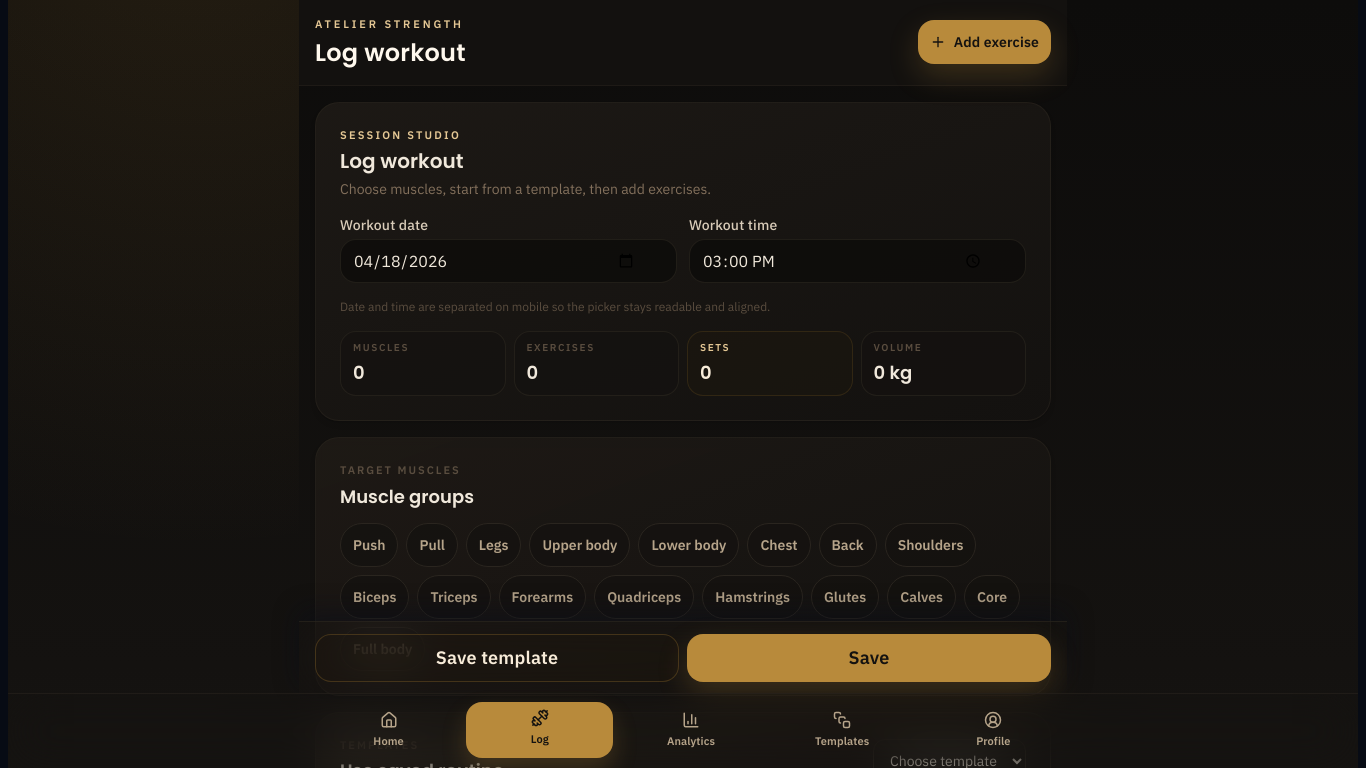
Test: LogWorkoutPage › creates workout successfully after adding an exercise
Click the button "Add exercise" at (984, 42), box [918,20,1051,64]
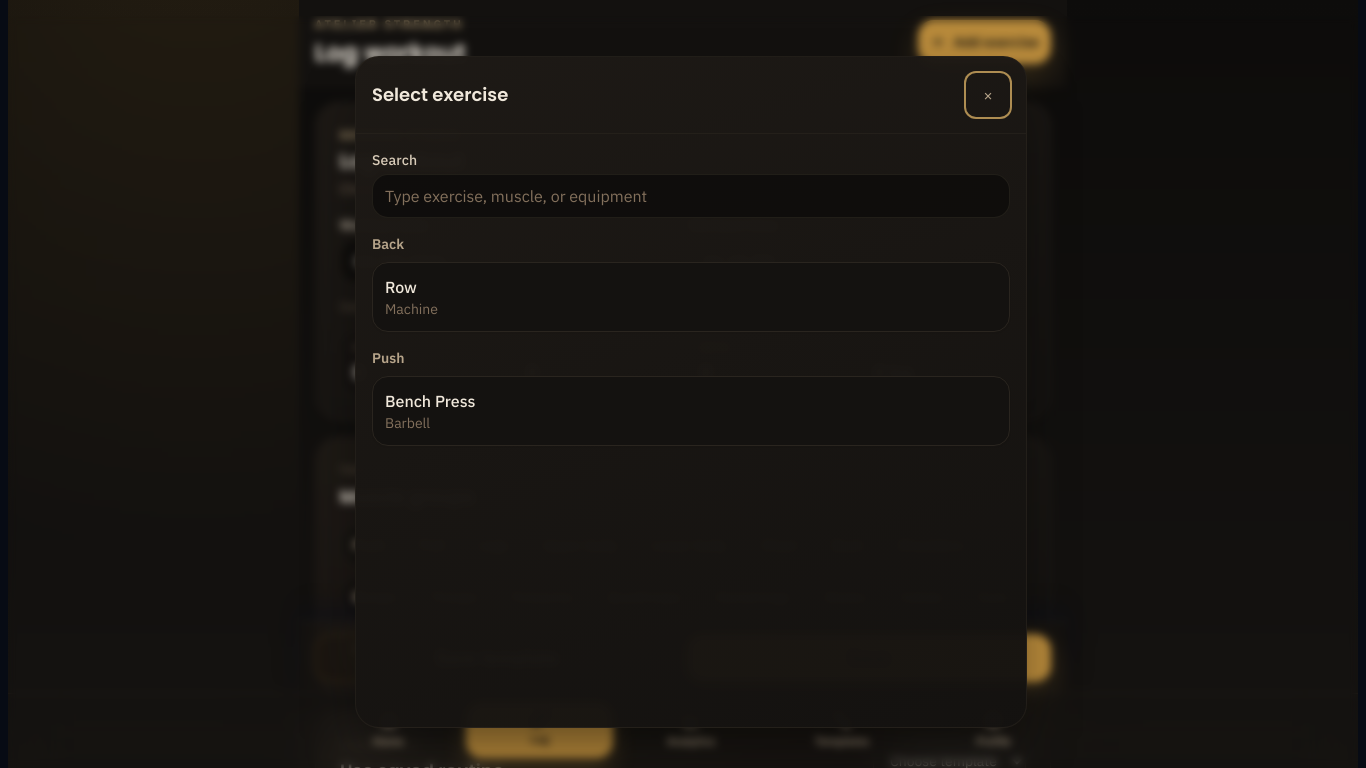
Click the button "Bench Press Barbell" at (430, 401), box [372,376,1010,446]
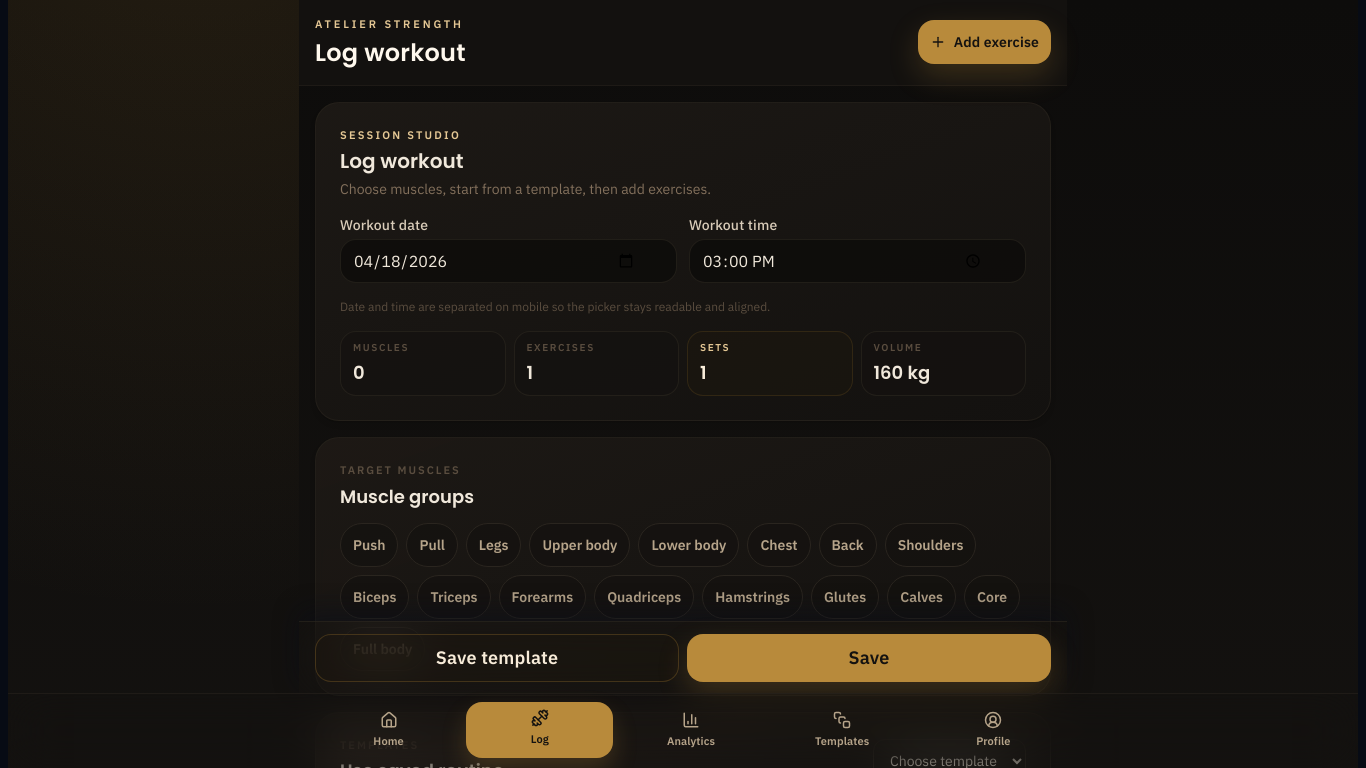
Click the button "Save" at (869, 658), box [687,634,1051,682]
(page scrolled)
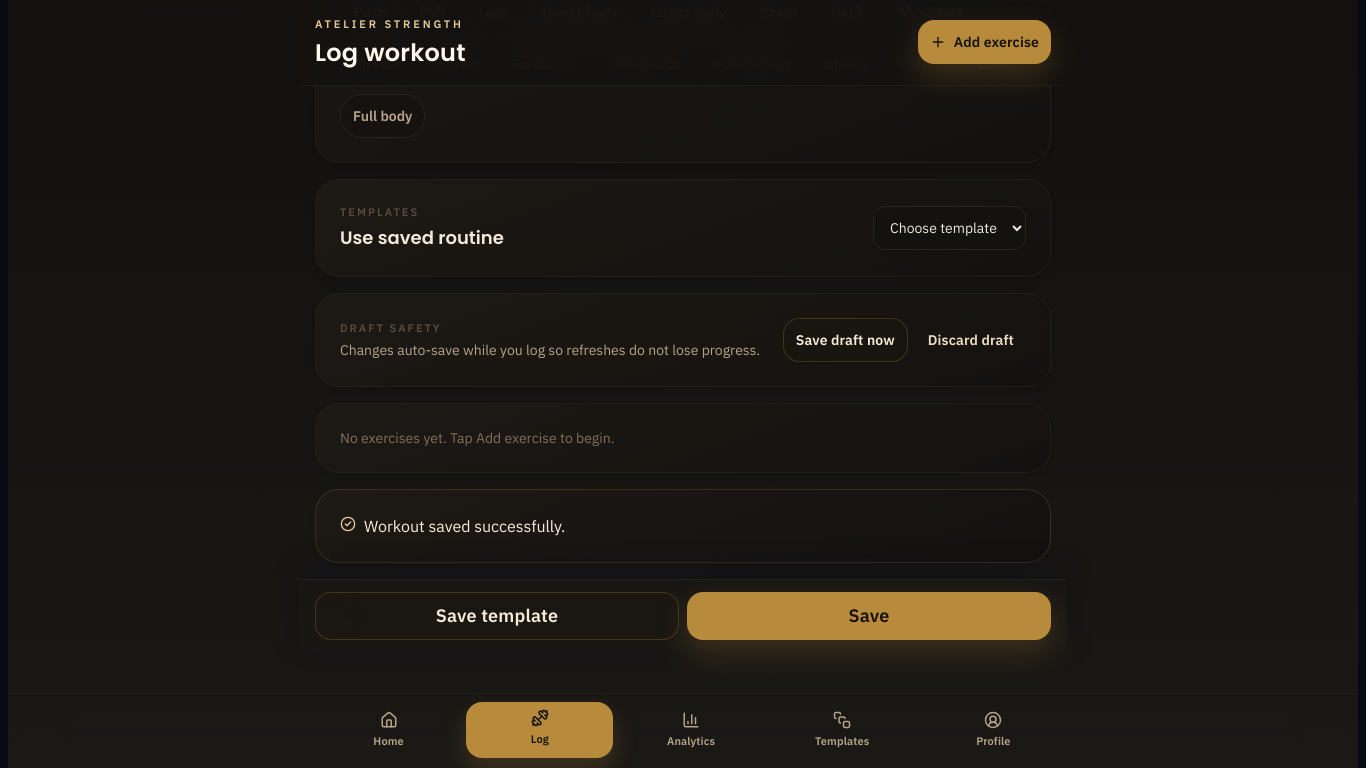
Check: the text "Workout saved successfully." is shown, box [364,514,565,538]
